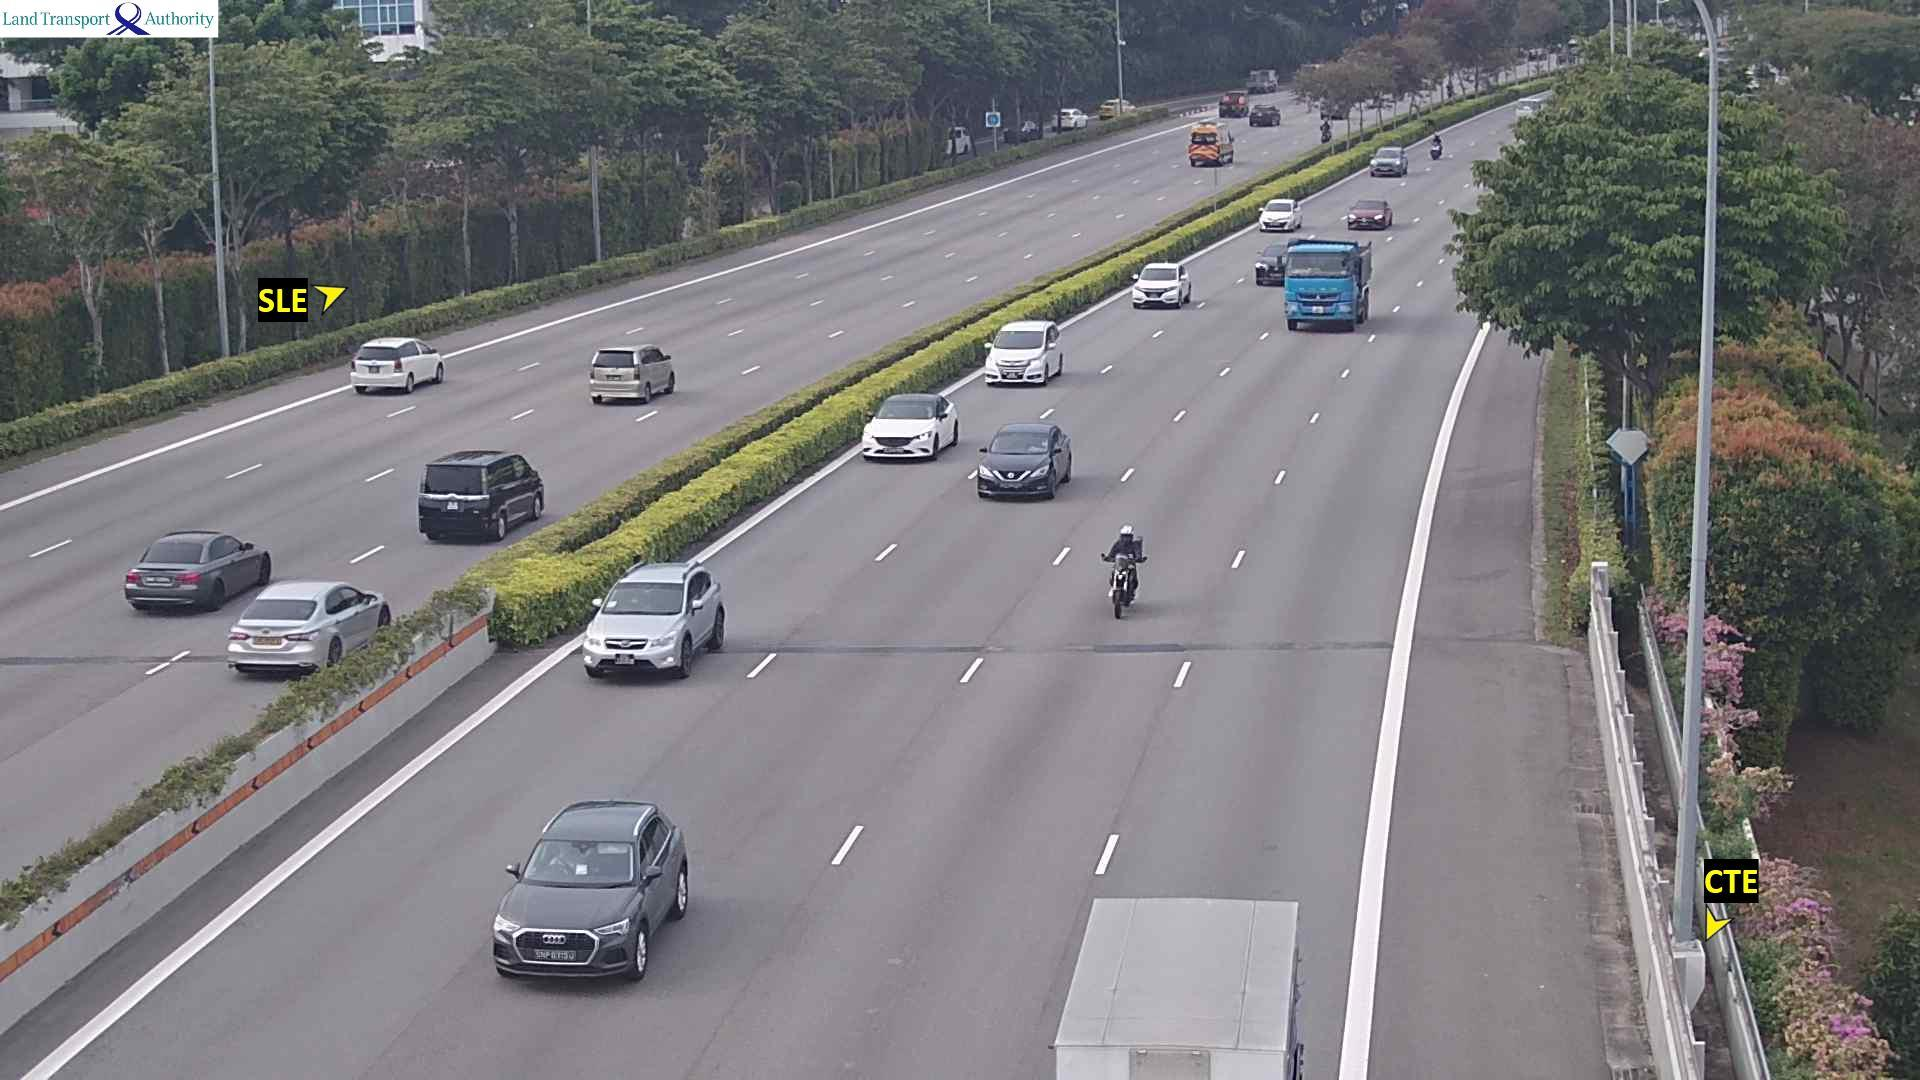incoming: (487, 831, 663, 986), (579, 572, 705, 675), (1274, 245, 1364, 334), (973, 427, 1063, 501), (861, 397, 949, 465), (980, 326, 1058, 388), (1098, 549, 1150, 624), (1129, 264, 1189, 309), (1253, 243, 1288, 286), (1346, 199, 1393, 231), (1257, 200, 1300, 232), (1367, 146, 1408, 178), (1511, 99, 1542, 121), (1427, 138, 1445, 164)
